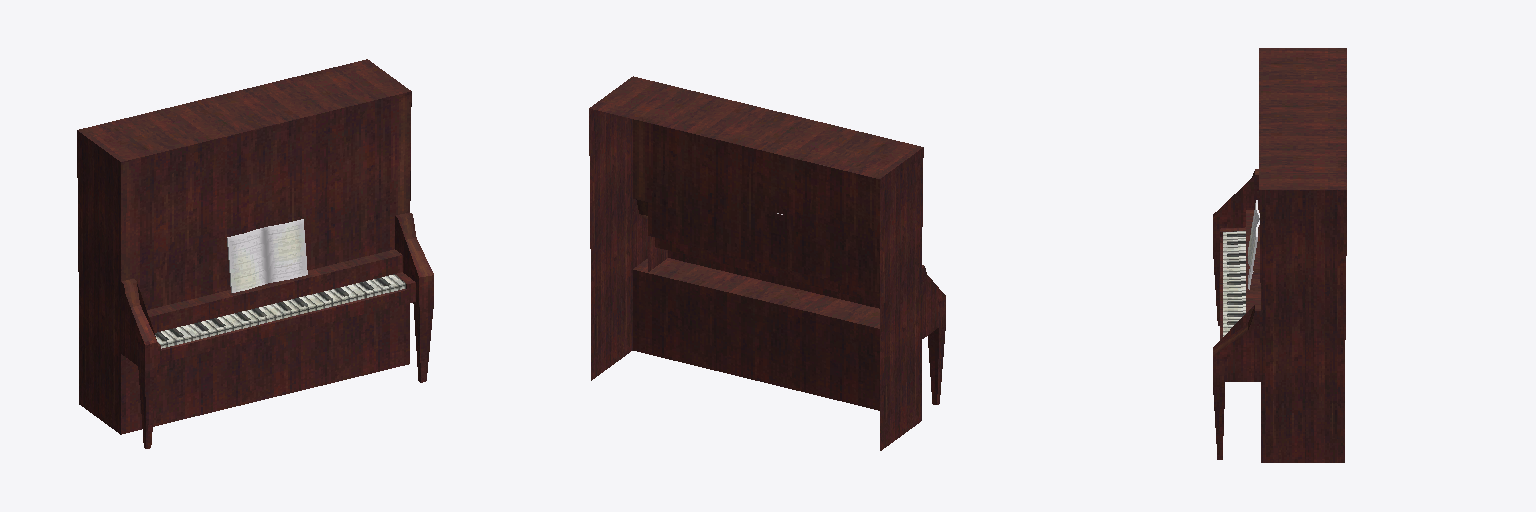
3 views of the same model, side by side, from view 1: azimuth 30°, elevation 25°; view 2: azimuth 150°, elevation 25°; view 3: azimuth 270°, elevation 25° (orthographic).
Bounding box in the file's own units: 1.05 × 0.9479 × 0.4228.
1 materials, 1 textured.